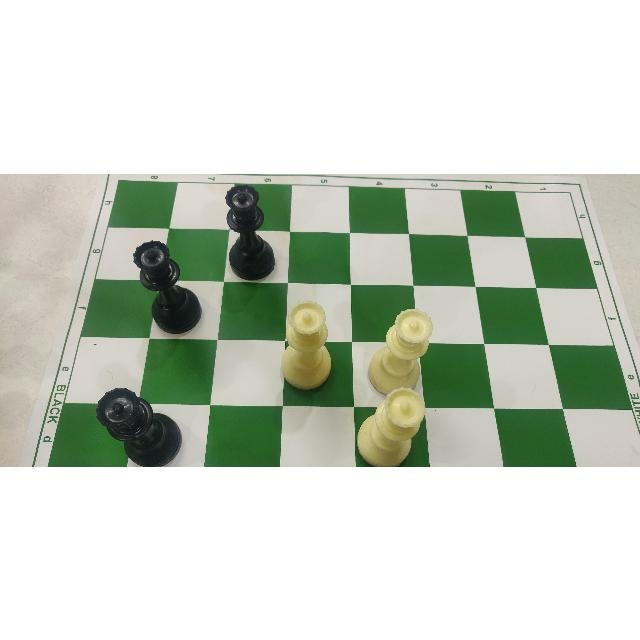black-queen: (92, 381, 186, 460), (210, 179, 278, 286), (130, 238, 202, 339)
white-queen: (359, 304, 434, 389), (350, 382, 430, 459), (282, 297, 332, 396)
